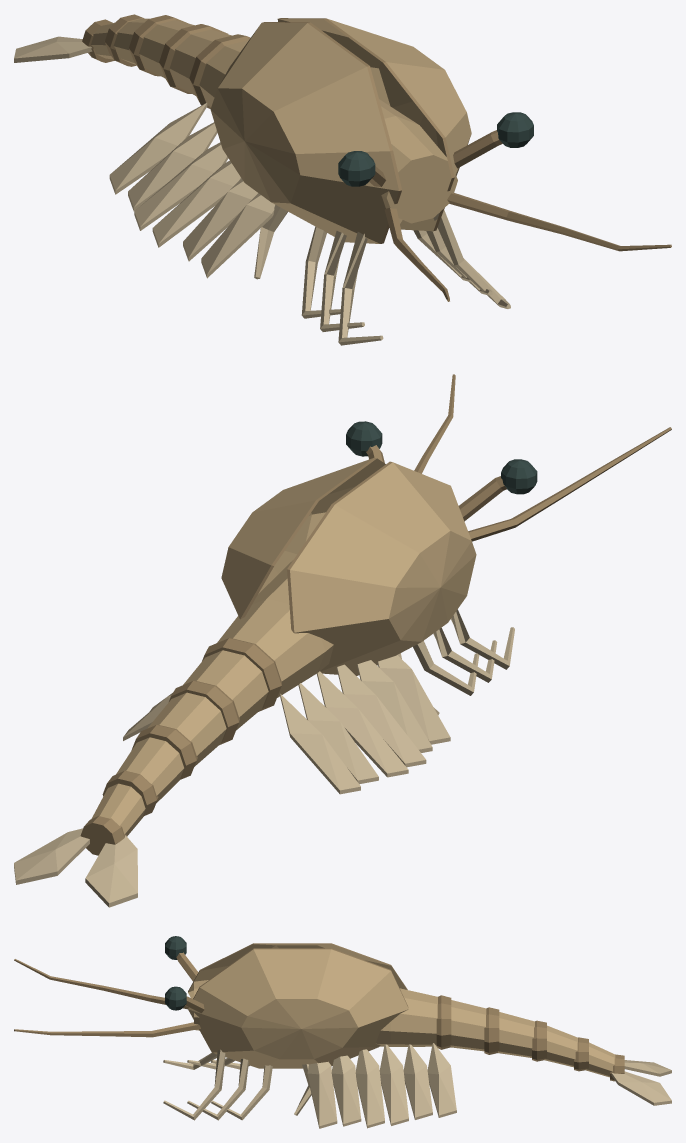
File: waptia.glb
The picture shows the model from 3 angles, top to bottom: view 1: azimuth 30°, elevation 25°; view 2: azimuth 150°, elevation 25°; view 3: azimuth 270°, elevation 25°; orthographic projection. The views are drawn at different scales.
Parts seen in each view (by area): view 1: paired-bivalved-carapace, separated-lamellar-appendages-and-paired-caudal-rami, ringed-body-and-limbless-abdomen, paired-antennules-and-eye-peduncles, paired-stalked-eyes; view 2: paired-bivalved-carapace, separated-lamellar-appendages-and-paired-caudal-rami, ringed-body-and-limbless-abdomen, paired-antennules-and-eye-peduncles, paired-stalked-eyes; view 3: paired-bivalved-carapace, separated-lamellar-appendages-and-paired-caudal-rami, ringed-body-and-limbless-abdomen, paired-antennules-and-eye-peduncles, paired-stalked-eyes.
Boxes of the visible parts, bbox=[...] form: paired-bivalved-carapace: bbox=[210, 18, 471, 243]; separated-lamellar-appendages-and-paired-caudal-rami: bbox=[14, 36, 510, 345]; ringed-body-and-limbless-abdomen: bbox=[82, 14, 457, 223]; paired-antennules-and-eye-peduncles: bbox=[369, 130, 671, 301]; paired-stalked-eyes: bbox=[338, 112, 533, 186]; paired-bivalved-carapace: bbox=[221, 457, 476, 675]; separated-lamellar-appendages-and-paired-caudal-rami: bbox=[14, 609, 514, 907]; ringed-body-and-limbless-abdomen: bbox=[80, 560, 333, 855]; paired-antennules-and-eye-peduncles: bbox=[366, 374, 671, 541]; paired-stalked-eyes: bbox=[346, 421, 537, 494]; paired-bivalved-carapace: bbox=[188, 943, 408, 1068]; separated-lamellar-appendages-and-paired-caudal-rami: bbox=[163, 1043, 671, 1128]; ringed-body-and-limbless-abdomen: bbox=[194, 980, 624, 1081]; paired-antennules-and-eye-peduncles: bbox=[14, 952, 204, 1037]; paired-stalked-eyes: bbox=[165, 936, 186, 1010].
Size of the model in its own units: 0.033 by 0.0275 by 0.1101.
